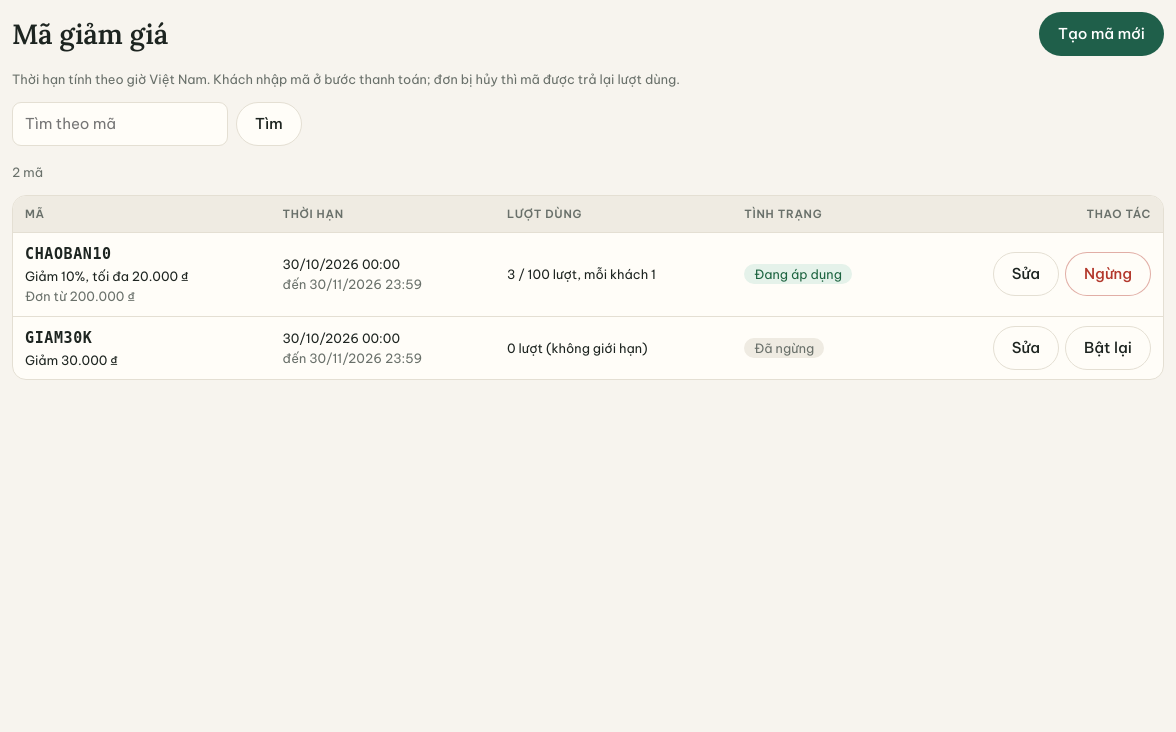
Test: VoucherAdminPage › tạo mã mới: gửi mã viết hoa, ô trống là null, kiểu cố định thì bỏ trần
This screenshot has width=1176, height=732.
Click the button "Tạo mã mới".
click(1102, 34)  # box [1039,12,1164,56]
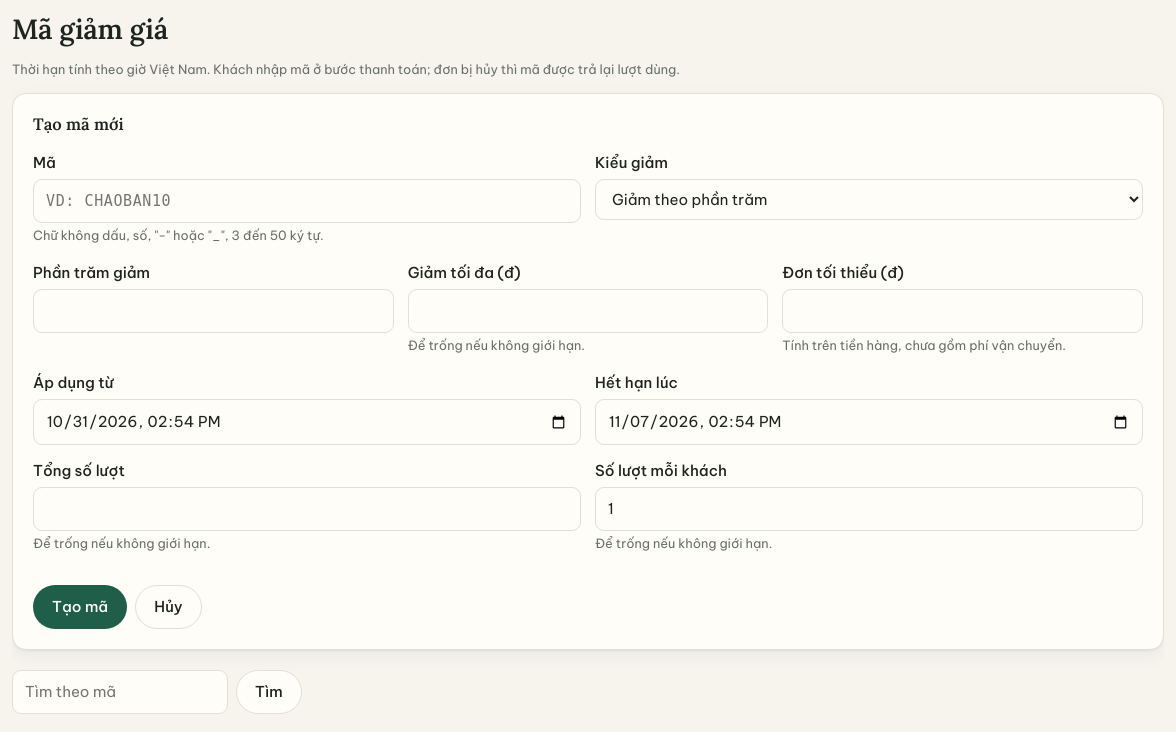
Type "moi50" into the field labelled "Mã".
click(307, 201); type("moi50")  # box [33,179,581,223]
Type "9000" into the number field labelled "Giảm tối đa (đ)".
click(588, 311); type("9000")  # box [408,289,768,333]
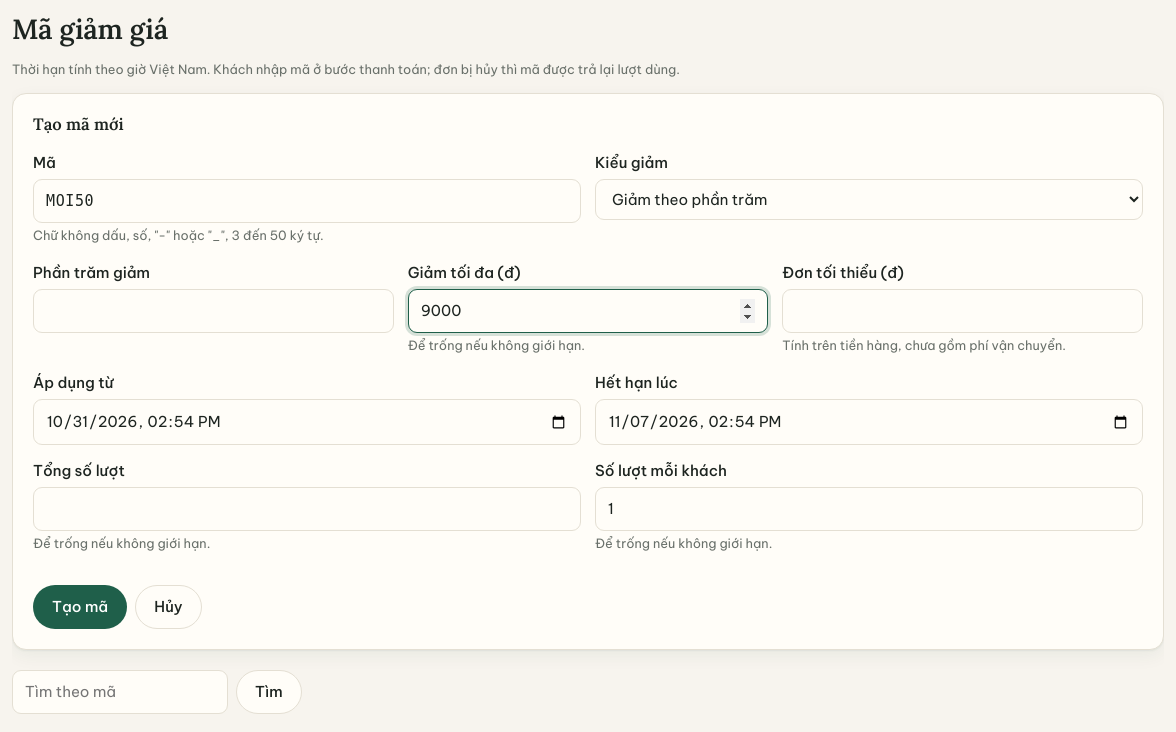
Select "Giảm số tiền cố định" in the dropdown labelled "Kiểu giảm" at (869, 200), box [595,179,1143,220]
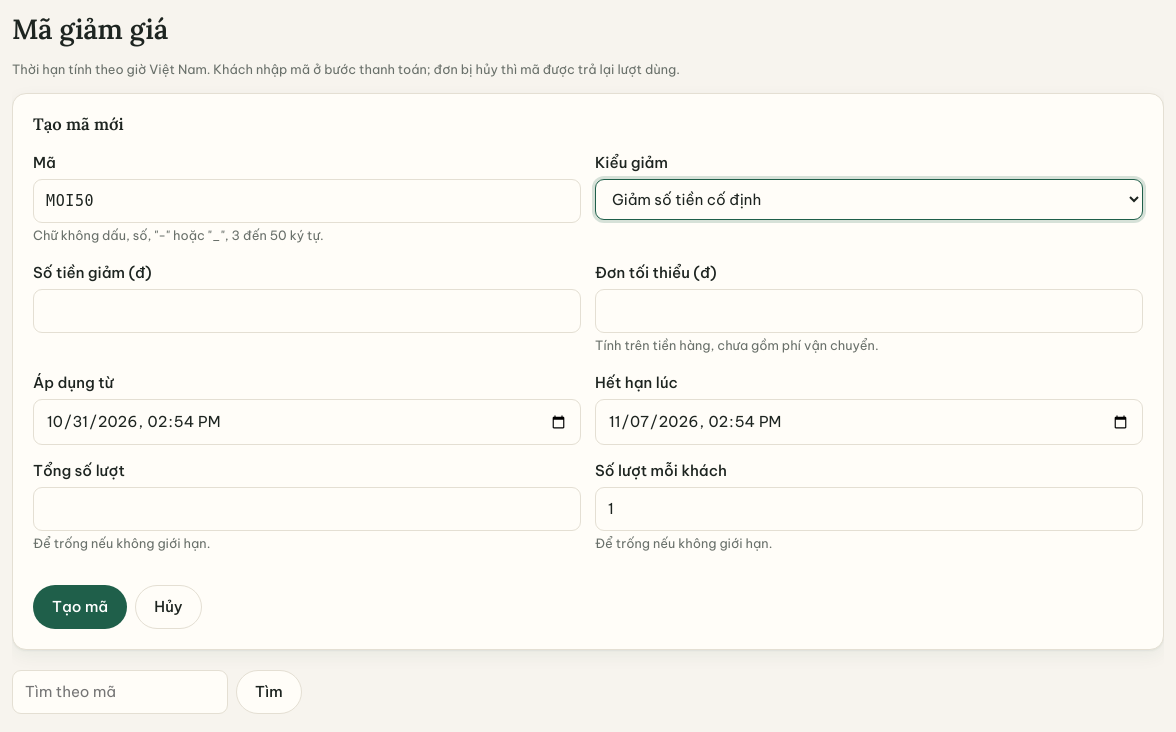
Result: the label labelled "Giảm tối đa (đ)" is gone
Type "50000" into the number field labelled "Số tiền giảm (đ)".
click(307, 311); type("50000")  # box [33,289,581,333]
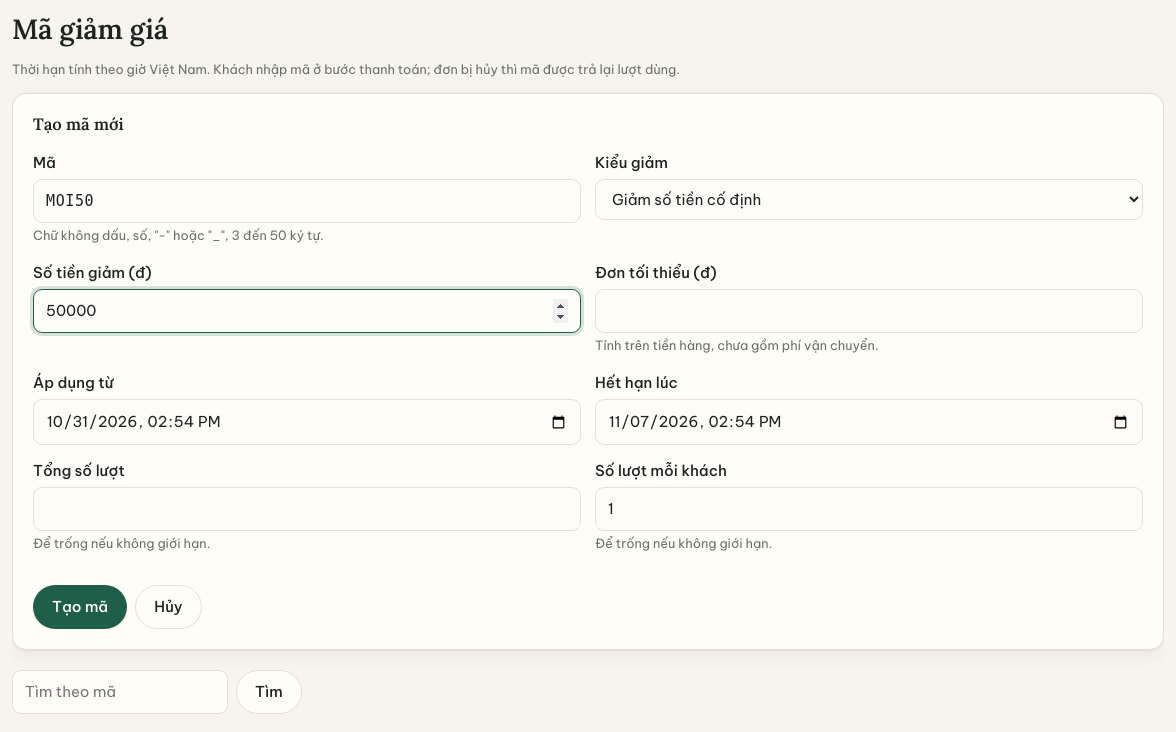
Type "300000" into the number field labelled "Đơn tối thiểu (đ)".
click(869, 311); type("300000")  # box [595,289,1143,333]
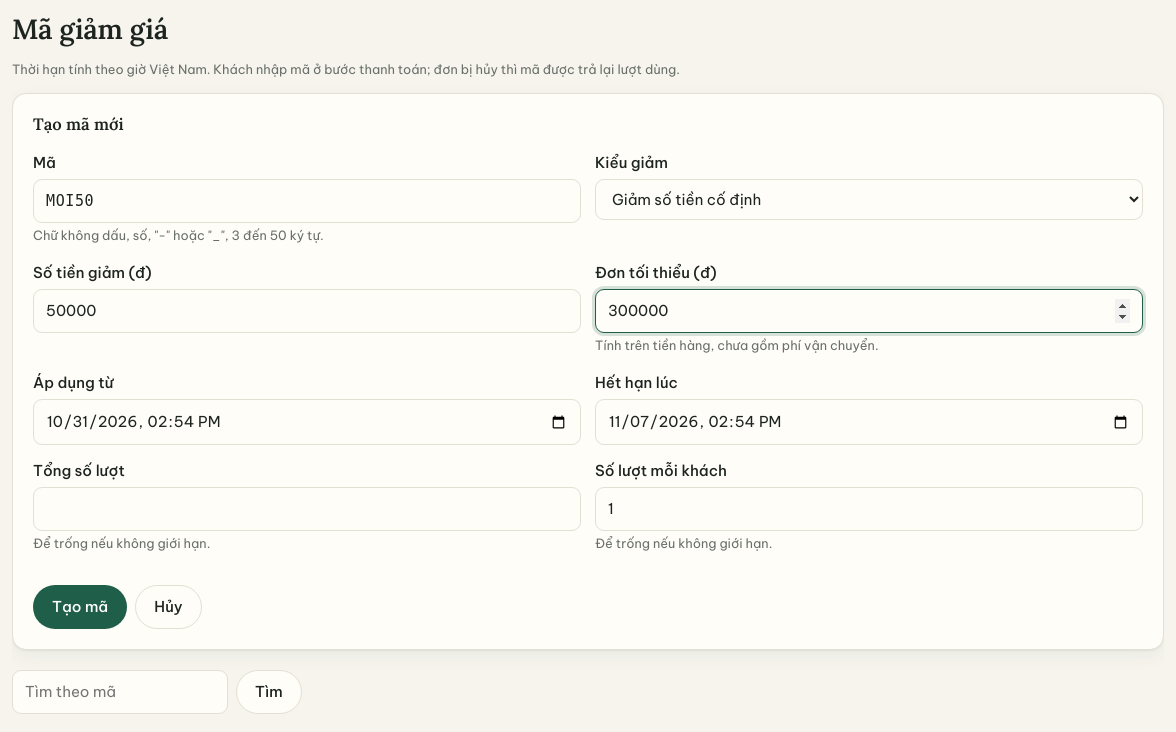
Click the button "Tạo mã".
click(80, 607)  # box [33,585,127,629]
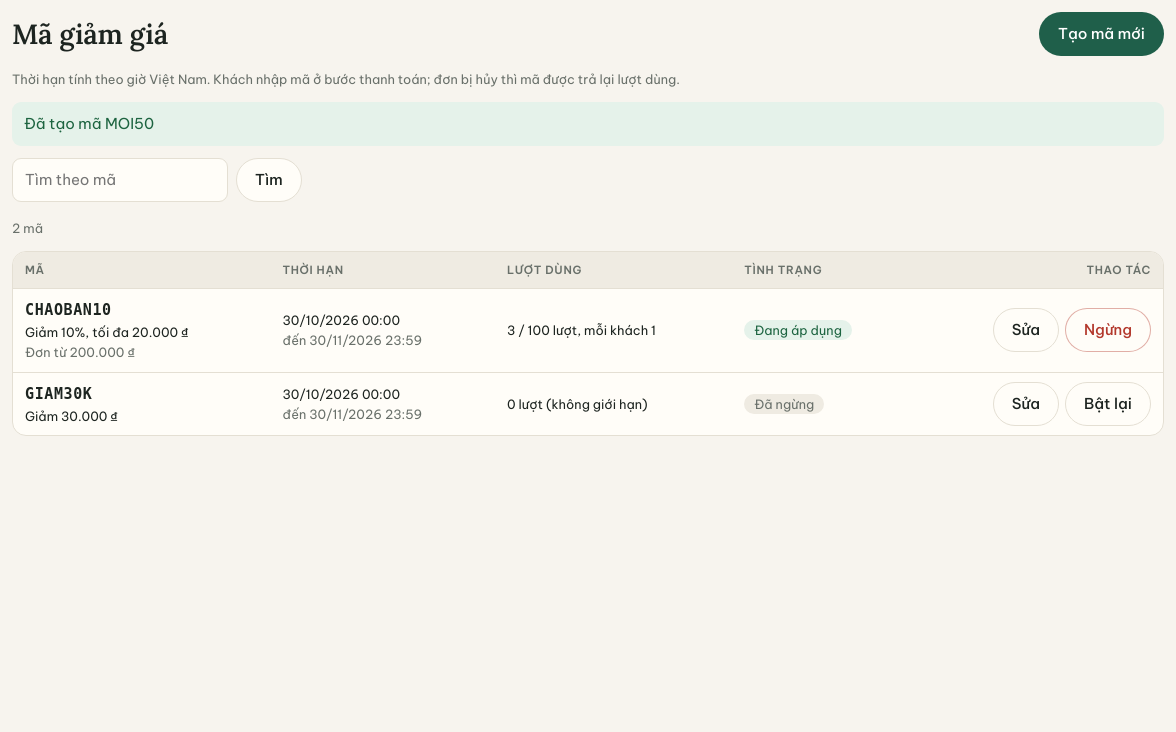
Result: the message reads "Đã tạo mã MOI50" at [24,114,154,133]
